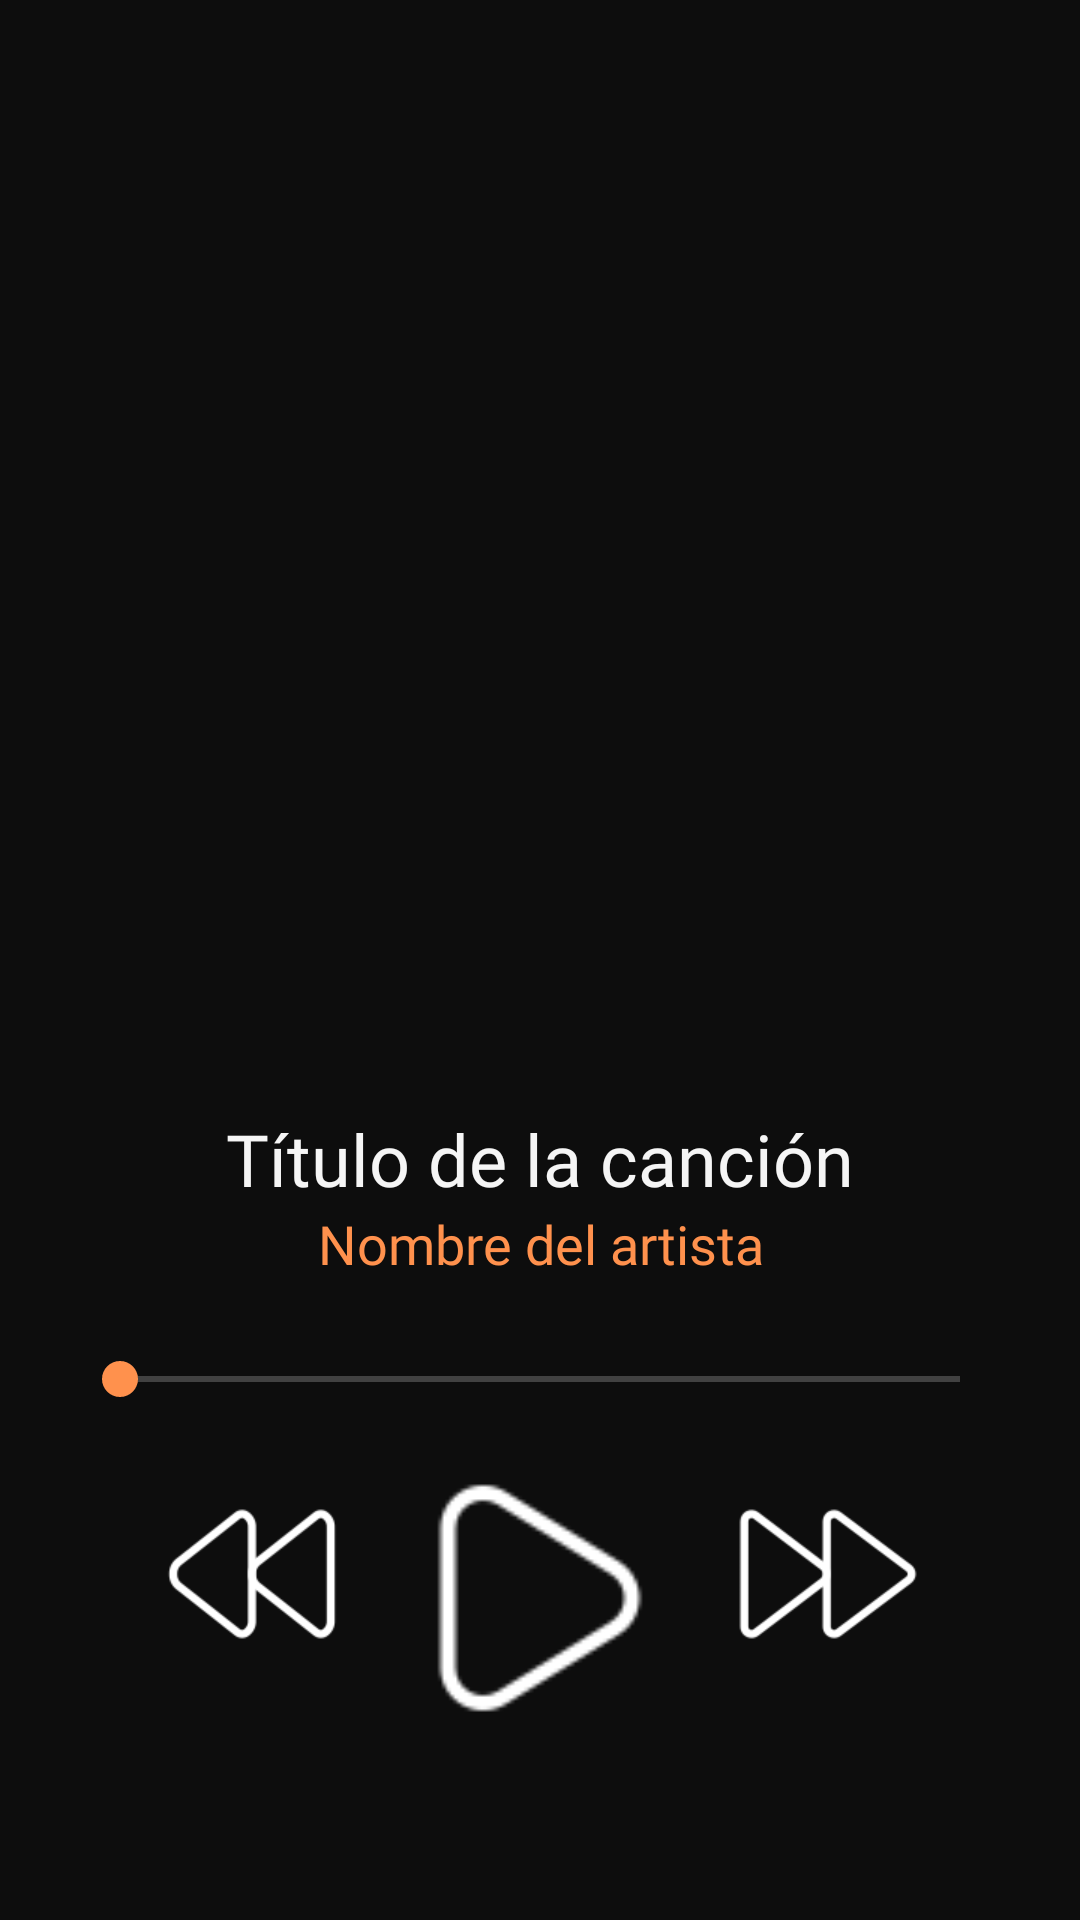

Where icons sit on this 1080×1920 app screen, as region(x1, y1, x2, y2):
Botón canción anterior: region(168, 1509, 336, 1639)
Botón canción siguiente: region(739, 1509, 917, 1639)
Botón reproducir / pausar: region(438, 1484, 642, 1712)
